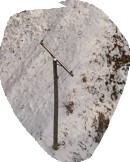pole: (29, 34, 81, 154)
